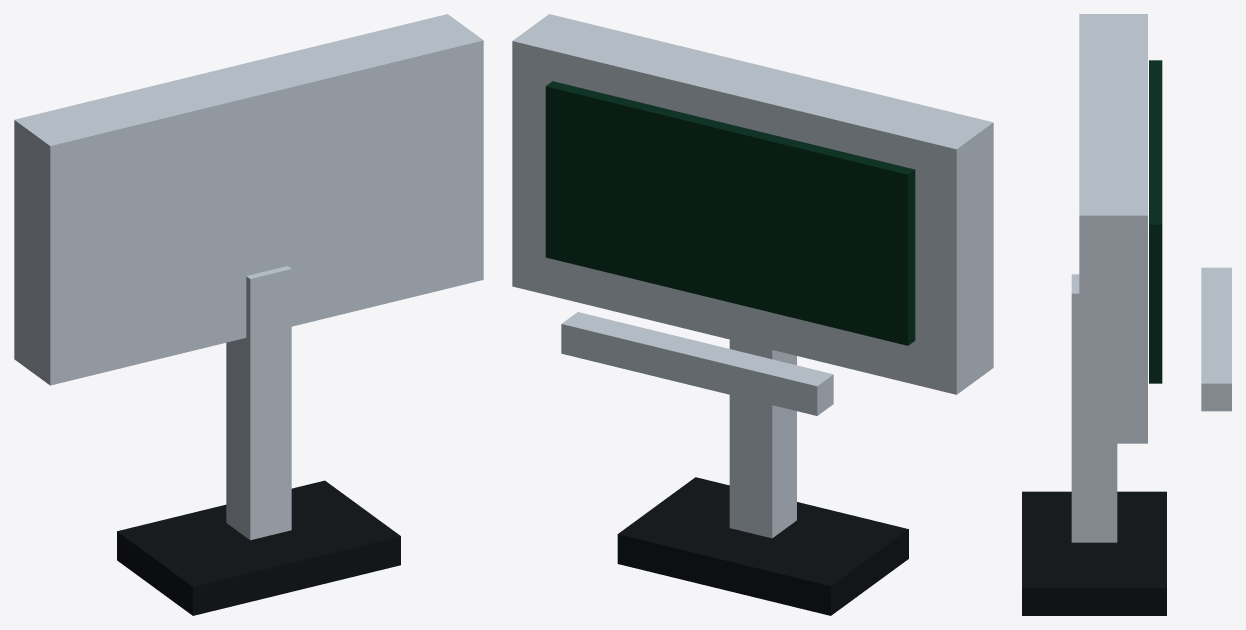
The model's file is patient_monitor_proxy.obj.
The picture shows the model from 3 angles, left to right: view 1: azimuth 30°, elevation 25°; view 2: azimuth 150°, elevation 25°; view 3: azimuth 270°, elevation 25°; orthographic projection. The views are drawn at different scales.
Parts seen in each view (by area): view 1: patient_monitor_proxy; view 2: patient_monitor_proxy; view 3: patient_monitor_proxy.
Boxes of the visible parts, bbox=[...] form: patient_monitor_proxy: bbox=[14, 14, 483, 615]; patient_monitor_proxy: bbox=[512, 14, 993, 615]; patient_monitor_proxy: bbox=[1022, 14, 1231, 615].
Bounding box in the file's own units: 1.25 × 1.31 × 0.55.
